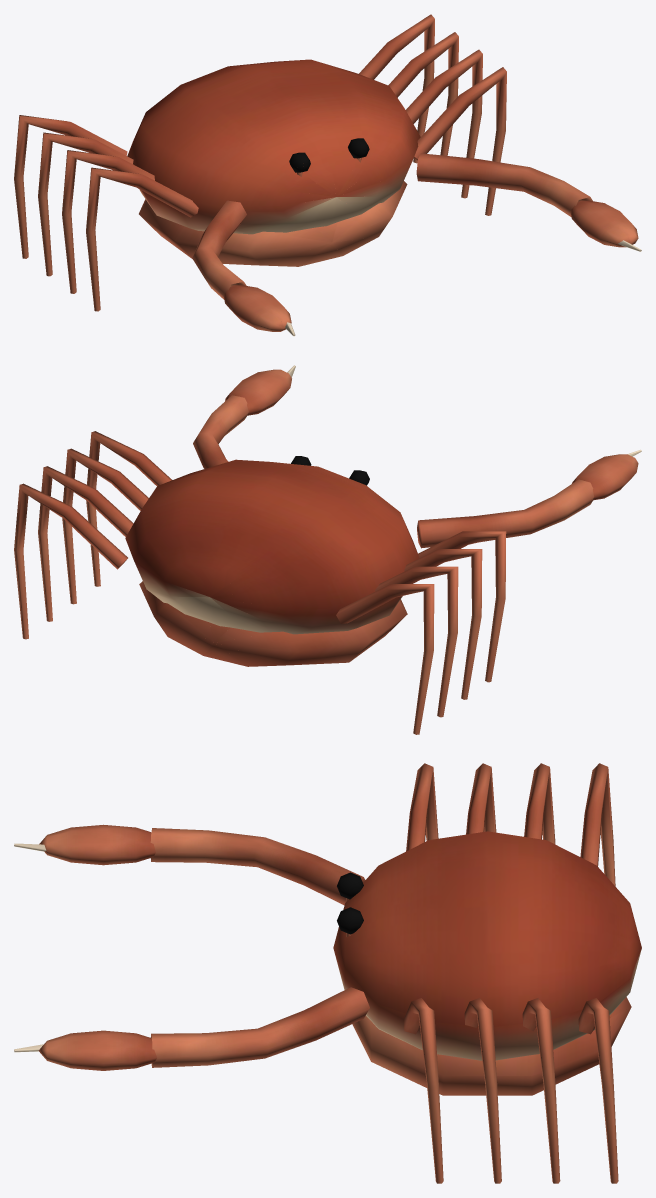
The model's file is shore_crab.glb.
3 views of the same model, one above another, from view 1: azimuth 30°, elevation 25°; view 2: azimuth 150°, elevation 25°; view 3: azimuth 270°, elevation 25° (orthographic). The views are drawn at different scales.
Size of the model in its own units: 0.3431 by 0.1333 by 0.3662.
1 material, 1 textured.
